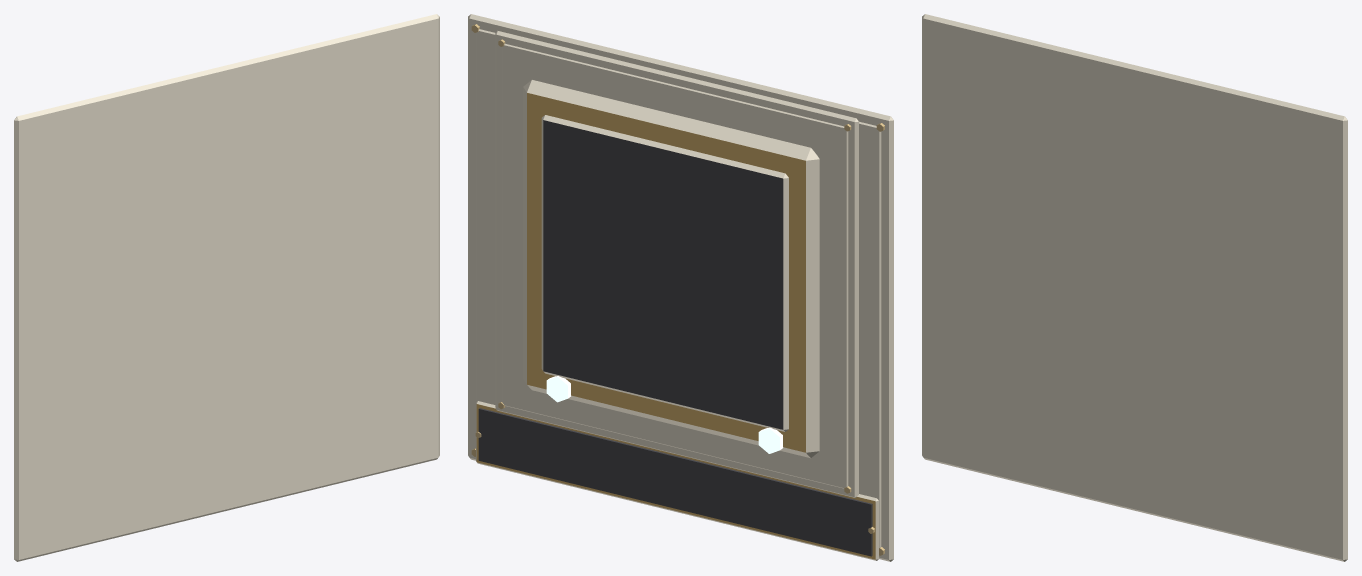
Rendered from Disp_Rune_2x2.fbx.
3 renders of one model, left to right at view 1: azimuth 30°, elevation 25°; view 2: azimuth 150°, elevation 25°; view 3: azimuth 330°, elevation 25°, orthographic.
Visible parts, largest first — view 1: Disp_Rune_2x2; view 2: Disp_Rune_2x2; view 3: Disp_Rune_2x2.
Boxes of the visible parts, <box> form: Disp_Rune_2x2: <box>14,14,439,561</box>; Disp_Rune_2x2: <box>468,14,893,561</box>; Disp_Rune_2x2: <box>922,14,1347,561</box>.
Bounding box in the file's own units: 2.06 × 2.06 × 0.1632.
